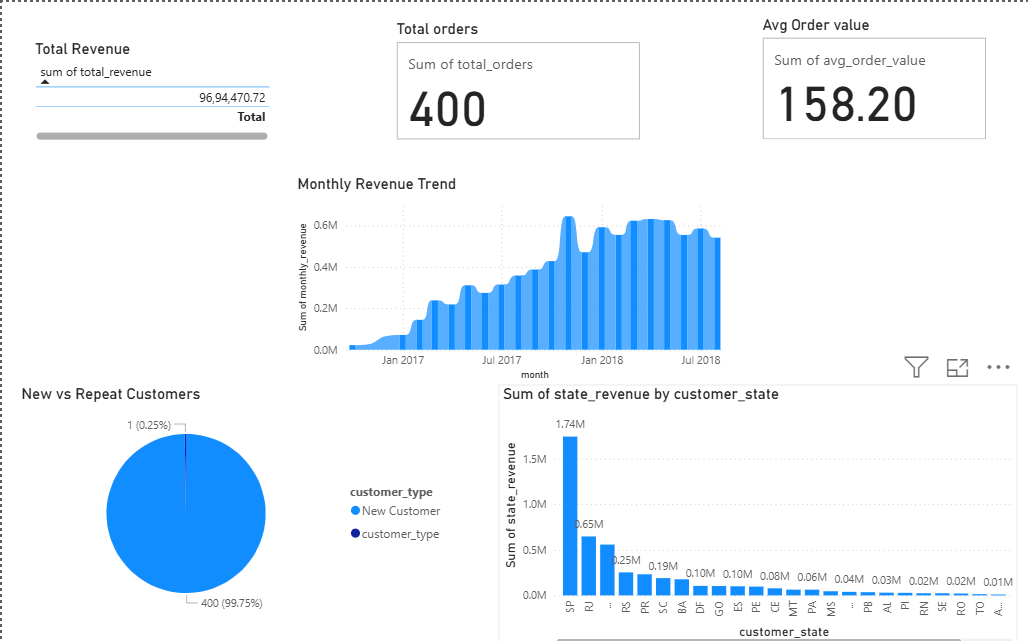

The page's visual inventory and layout, read from the dashboard file:
{"tool":"powerbi","page":{"name":"Page 1","canvas":[1280,720],"ordinal":0},"visuals":[{"type":"tableEx","title":"Total Revenue","fields":{"Values":["total_revenue.total_revenue","select"]},"box":[31.7,41.7,270,116.7],"z":0},{"type":"cardVisual","title":"Total orders","fields":{"Data":["Sum(total_orders.total_orders)"]},"box":[433.3,20,280,138.3],"z":1000},{"type":"pieChart","title":"New vs Repeat Customers","fields":{"Category":["customer_type.Column2"],"Y":["CountNonNull(customer_type.Column1)"]},"box":[16.7,425,485,266.7],"z":3000},{"type":"ribbonChart","title":"Monthly Revenue Trend","fields":{"Category":["montly_revenue.month"],"Y":["Sum(montly_revenue.monthly_revenue)"]},"box":[323.3,191.7,500,233.3],"z":5000},{"type":"clusteredColumnChart","fields":{"Y":["Sum(state_revenue.state_revenue)"],"Category":["state_revenue.customer_state"]},"box":[551.7,425,576.7,295],"z":6000},{"type":"cardVisual","title":"Avg Order value","fields":{"Data":["Sum(avg_order_value.avg_order_value)"]},"box":[840,15,258.3,143.3],"z":6001}]}

Visuals, with their boxes on the page's 1280x720 design canvas (x1, y1, x2, y2). These are canvas units, not pixel positions in the 1028x641 screenshot, which may show the page scaled, cropped or inside an application window:
"Total Revenue" tableEx: 32/42/302/158
"Total orders" cardVisual: 433/20/713/158
"New vs Repeat Customers" pieChart: 17/425/502/692
"Monthly Revenue Trend" ribbonChart: 323/192/823/425
clusteredColumnChart - Sum(state_revenue.state_revenue) x state_revenue.customer_state: 552/425/1128/720
"Avg Order value" cardVisual: 840/15/1098/158
